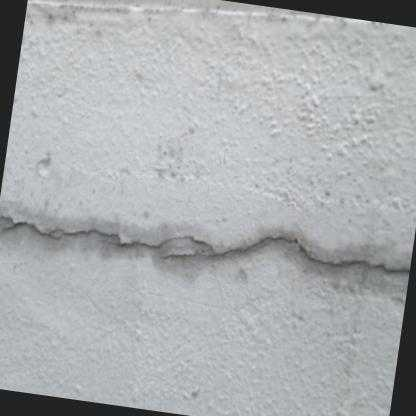crack: (0, 214, 410, 274)
